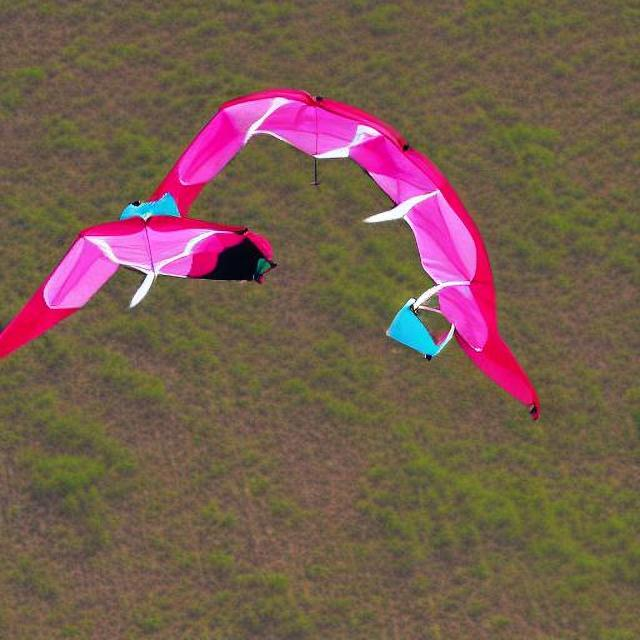floating object: (2, 78, 548, 414)
